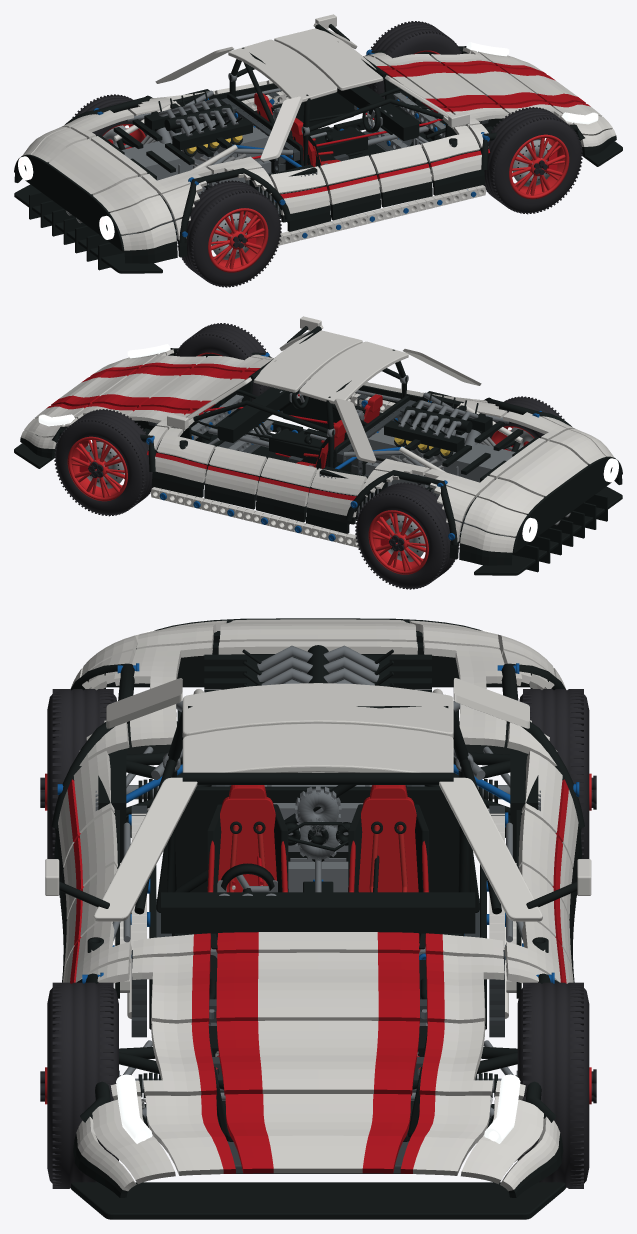
3 views of the same model, one above another, from view 1: azimuth 30°, elevation 25°; view 2: azimuth 150°, elevation 25°; view 3: azimuth 270°, elevation 25° (orthographic). The views are drawn at different scales.
Parts seen in each view (by area): view 1: rueda_del_izq, rueda_tras_izq, panel_techo_0, panel_techo_1, panel_trasera, panel_carroceria_04, talonera_izq, llanta_del_izq, llanta_tras_izq, rueda_del_der, difusor, panel_carroceria_53 (+60 smaller); view 2: rueda_del_der, rueda_tras_der, panel_techo_0, panel_techo_1, panel_trasera, panel_carroceria_04, talonera_der, llanta_del_der, llanta_tras_der, rueda_del_izq, difusor, panel_carroceria_53 (+60 smaller); view 3: splitter_del, panel_carroceria_60, panel_carroceria_53, panel_carroceria_67, salpicadero, panel_techo_1, panel_techo_0, rueda_del_der, rueda_del_izq, panel_mamparo, asiento_der, asiento_izq (+70 smaller).
Part boxes in pixels (<box>): rueda_del_izq: <box>483,107,582,214</box>; rueda_tras_izq: <box>177,180,281,287</box>; panel_techo_0: <box>228,39,337,102</box>; panel_techo_1: <box>274,28,383,90</box>; panel_trasera: <box>14,154,124,251</box>; panel_carroceria_04: <box>49,139,137,195</box>; talonera_izq: <box>277,185,485,245</box>; llanta_del_izq: <box>509,134,569,199</box>; llanta_tras_izq: <box>208,208,268,272</box>; rueda_del_der: <box>366,21,461,98</box>; difusor: <box>29,192,127,270</box>; panel_carroceria_53: <box>396,65,495,109</box>; rueda_del_der: <box>54,409,153,516</box>; rueda_tras_der: <box>355,482,459,589</box>; panel_techo_0: <box>299,341,408,404</box>; panel_techo_1: <box>253,330,362,392</box>; panel_trasera: <box>512,456,622,553</box>; panel_carroceria_04: <box>499,441,587,497</box>; talonera_der: <box>151,487,359,547</box>; llanta_del_der: <box>67,436,127,501</box>; llanta_tras_der: <box>368,510,428,574</box>; rueda_del_izq: <box>175,323,270,400</box>; difusor: <box>509,494,607,572</box>; panel_carroceria_53: <box>141,367,240,411</box>; splitter_del: <box>71,1182,565,1219</box>; panel_carroceria_60: <box>217,1020,419,1095</box>; panel_carroceria_53: <box>216,952,419,1023</box>; panel_carroceria_67: <box>225,1094,410,1173</box>; salpicadero: <box>161,892,475,933</box>; panel_techo_1: <box>182,723,453,772</box>; panel_techo_0: <box>182,683,453,737</box>; rueda_del_der: <box>517,982,589,1188</box>; rueda_del_izq: <box>47,982,118,1188</box>; panel_mamparo: <box>156,786,479,912</box>; asiento_der: <box>348,785,429,952</box>; asiento_izq: <box>207,785,288,952</box>.
Bounding box in the file's own units: 0.488 × 0.136 × 0.232.
